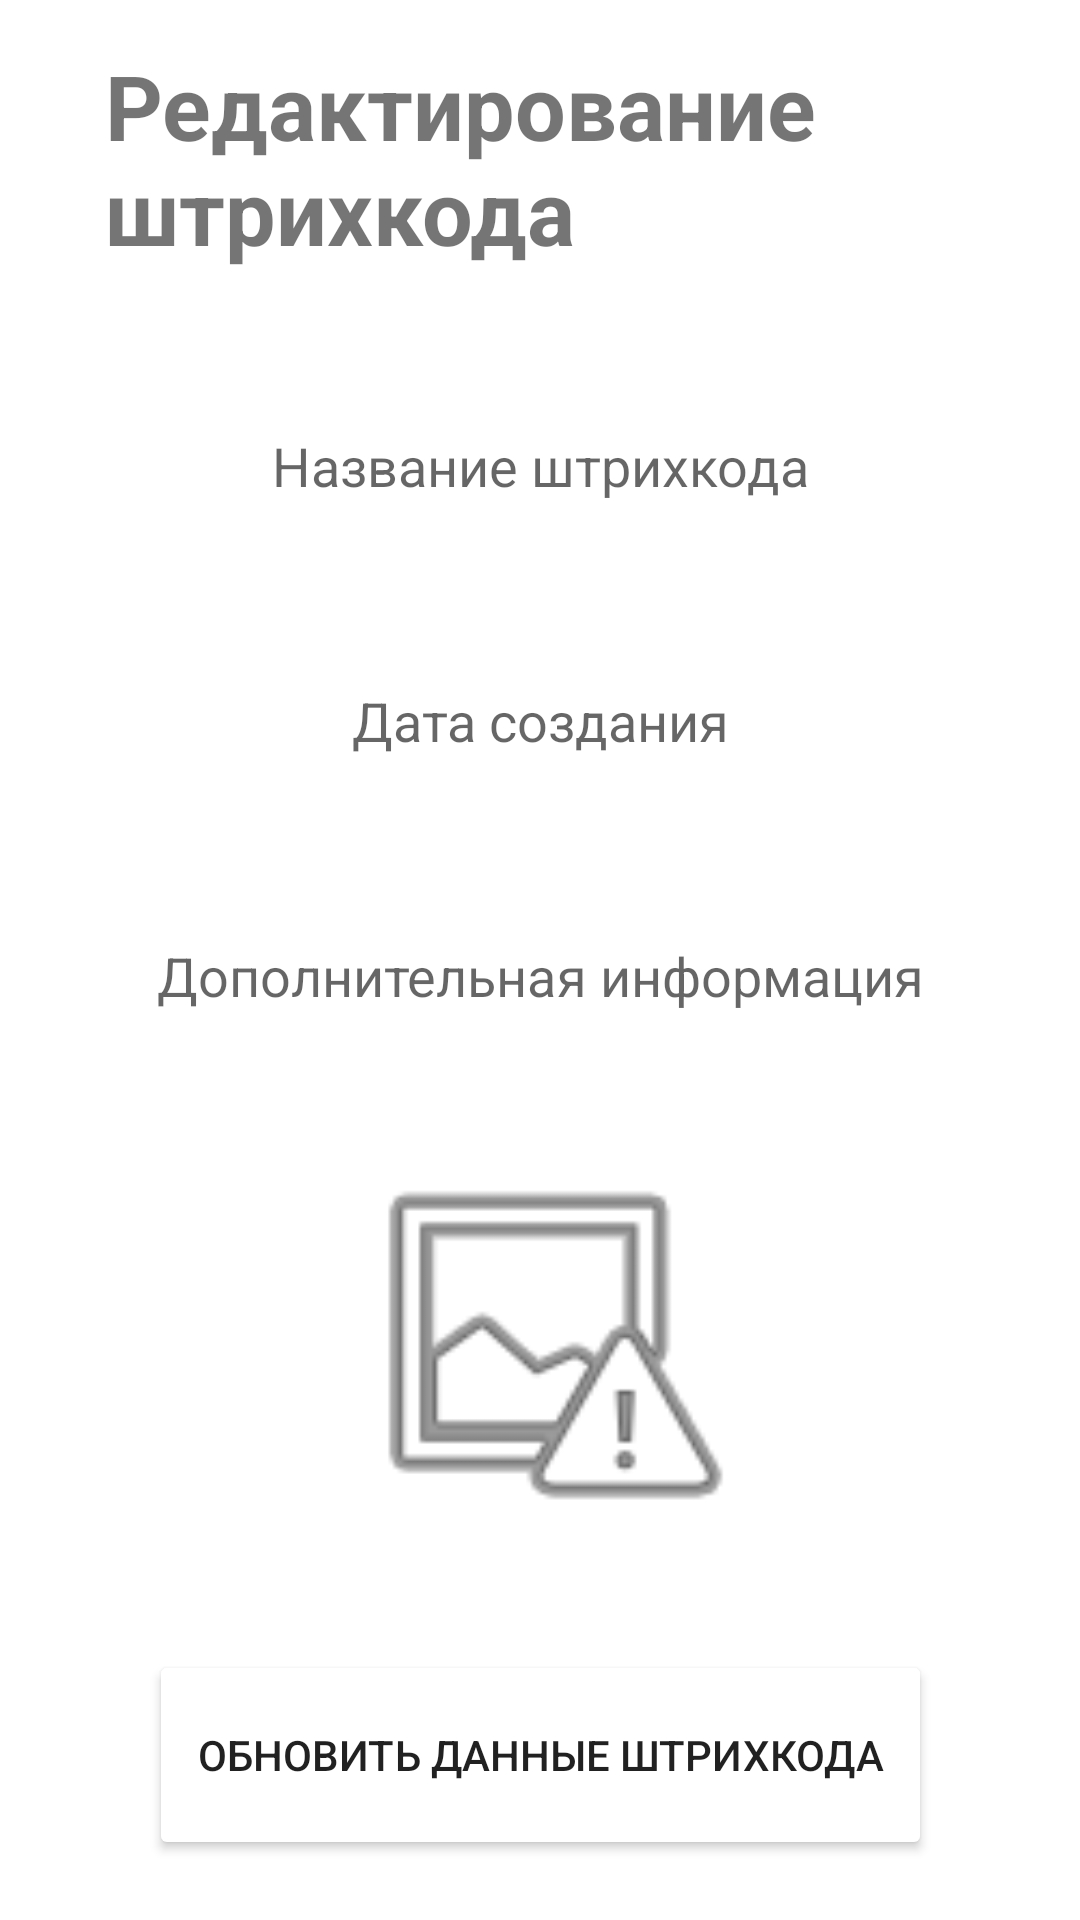

Where to tap for icons on this 1080px×1920px app screen, as (x=x, y=y):
report: (x=555, y=1345)
